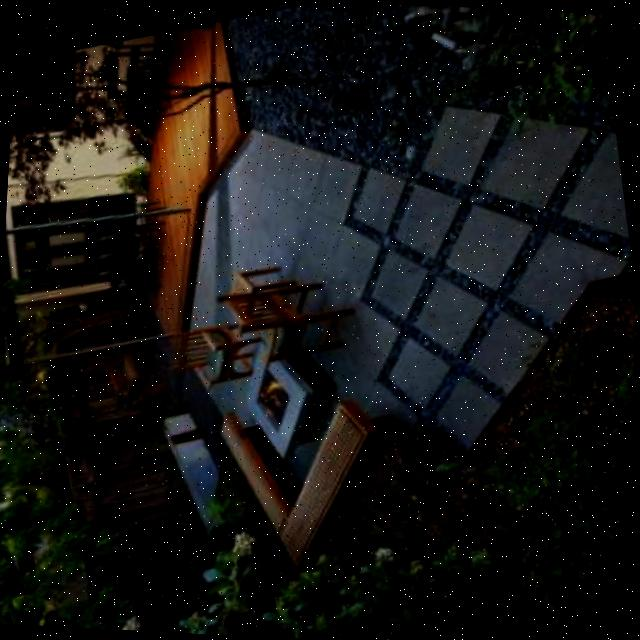fire: (251, 367, 301, 422)
